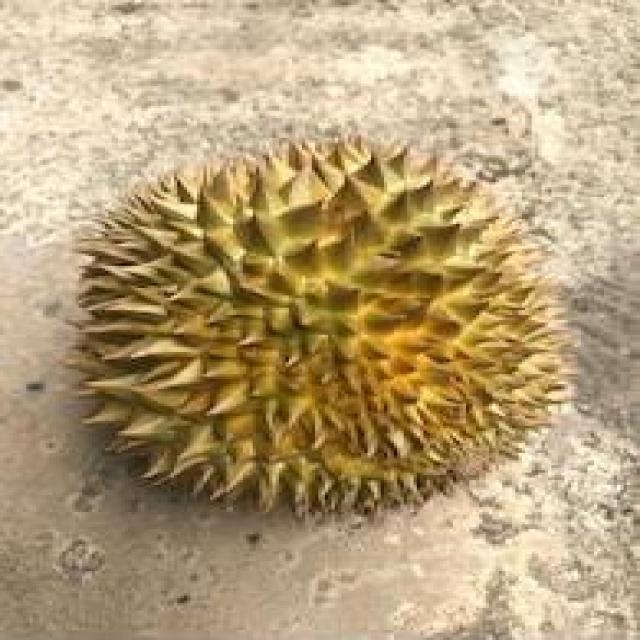mature: (80, 140, 557, 512)
